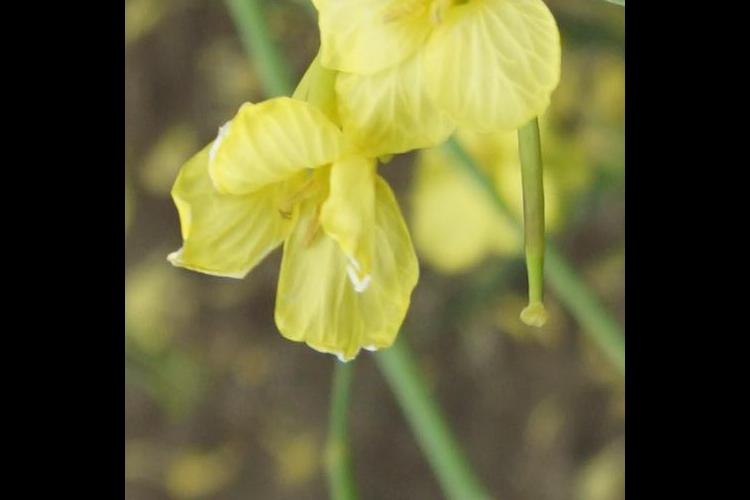pod: (487, 107, 573, 348)
yellow: (174, 99, 428, 370), (309, 1, 570, 166)
